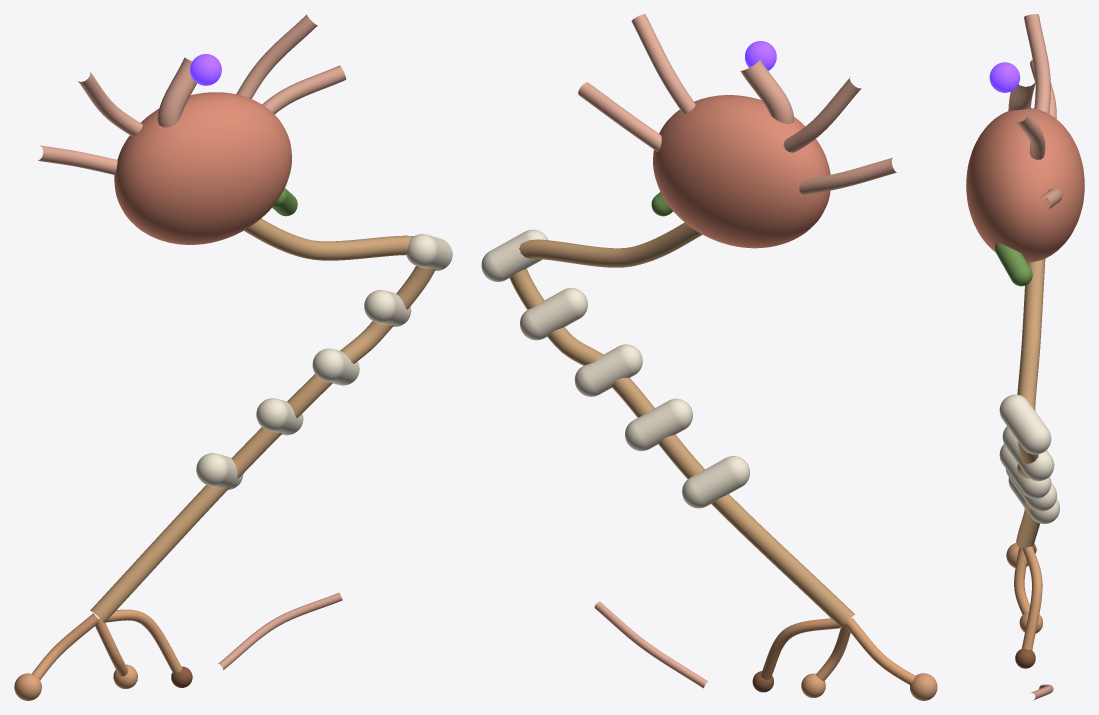
The model's file is neuron-authored.glb.
3 renders of one model, left to right at view 1: azimuth 30°, elevation 25°; view 2: azimuth 150°, elevation 25°; view 3: azimuth 270°, elevation 25°, orthographic. The views are drawn at different scales.
Visible parts, largest first — view 1: soma-cell-body, axon-long-signal-fiber, dendrite-branch-2, dendrite-branch-0, dendrite-branch-4, myelin-insulation-0, myelin-insulation-2, myelin-insulation-1, next-neuron-receiving-dendrite-preview, myelin-insulation-3, myelin-insulation-4, dendrite-branch-1 (+5 smaller); view 2: soma-cell-body, axon-long-signal-fiber, myelin-insulation-4, myelin-insulation-1, myelin-insulation-3, myelin-insulation-2, dendrite-branch-2, myelin-insulation-0, dendrite-branch-4, dendrite-branch-1, dendrite-branch-3, dendrite-branch-0 (+4 smaller); view 3: soma-cell-body, axon-long-signal-fiber, myelin-insulation-0, dendrite-branch-1, axon-terminal-branch-2, myelin-insulation-1, myelin-insulation-2, mitochondrion-neuron-power, animated-signal-pulse, dendrite-branch-2, axon-terminal-branch-1, myelin-insulation-4 (+7 smaller).
Boxes of the visible parts, x1=… form: soma-cell-body: x1=114, y1=92, x2=291, y2=244; axon-long-signal-fiber: x1=90, y1=218, x2=435, y2=622; dendrite-branch-2: x1=236, y1=14, x2=317, y2=98; dendrite-branch-0: x1=157, y1=57, x2=196, y2=127; dendrite-branch-4: x1=262, y1=65, x2=346, y2=114; myelin-insulation-0: x1=406, y1=234, x2=452, y2=270; myelin-insulation-2: x1=312, y1=348, x2=359, y2=385; myelin-insulation-1: x1=364, y1=290, x2=411, y2=326; next-neuron-receiving-dendrite-preview: x1=218, y1=592, x2=342, y2=669; myelin-insulation-3: x1=256, y1=398, x2=303, y2=435; myelin-insulation-4: x1=196, y1=453, x2=243, y2=489; dendrite-branch-1: x1=78, y1=72, x2=142, y2=136; soma-cell-body: x1=653, y1=95, x2=830, y2=248; axon-long-signal-fiber: x1=509, y1=222, x2=854, y2=628; myelin-insulation-4: x1=682, y1=456, x2=749, y2=508; myelin-insulation-1: x1=520, y1=288, x2=587, y2=340; myelin-insulation-3: x1=625, y1=398, x2=692, y2=451; myelin-insulation-2: x1=574, y1=344, x2=642, y2=396; dendrite-branch-2: x1=631, y1=14, x2=695, y2=113; myelin-insulation-0: x1=481, y1=229, x2=547, y2=281; dendrite-branch-4: x1=578, y1=82, x2=661, y2=151; dendrite-branch-1: x1=783, y1=77, x2=861, y2=152; dendrite-branch-3: x1=799, y1=157, x2=896, y2=195; dendrite-branch-0: x1=740, y1=59, x2=793, y2=123; soma-cell-body: x1=966, y1=108, x2=1084, y2=262; axon-long-signal-fiber: x1=1016, y1=259, x2=1045, y2=548; myelin-insulation-0: x1=999, y1=394, x2=1051, y2=454; dendrite-branch-1: x1=1024, y1=14, x2=1050, y2=113; axon-terminal-branch-2: x1=1022, y1=546, x2=1042, y2=650; myelin-insulation-1: x1=1002, y1=426, x2=1054, y2=481; myelin-insulation-2: x1=999, y1=444, x2=1051, y2=498; mitochondrion-neuron-power: x1=995, y1=243, x2=1032, y2=286; animated-signal-pulse: x1=989, y1=62, x2=1020, y2=92; dendrite-branch-2: x1=1014, y1=111, x2=1045, y2=159; axon-terminal-branch-1: x1=1014, y1=547, x2=1029, y2=614; myelin-insulation-4: x1=1008, y1=477, x2=1059, y2=523.
Size of what is drawn, in the model's own units: 1.66 by 2.32 by 0.4032.
